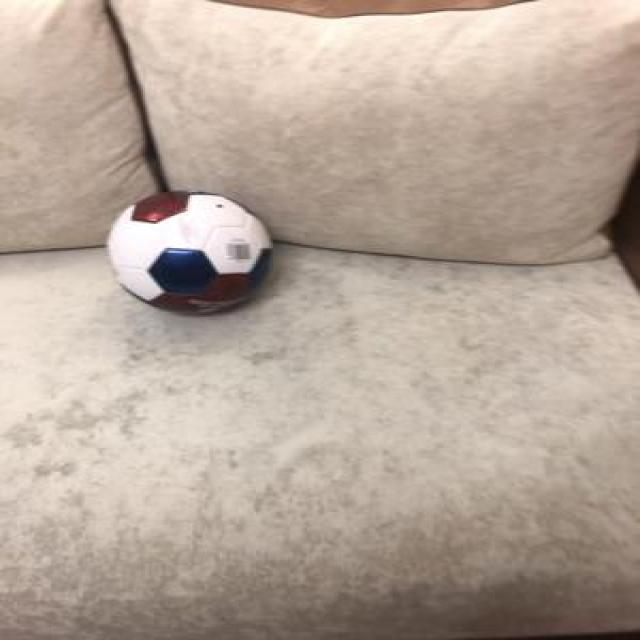Soccer Ball: (104, 187, 271, 312)
